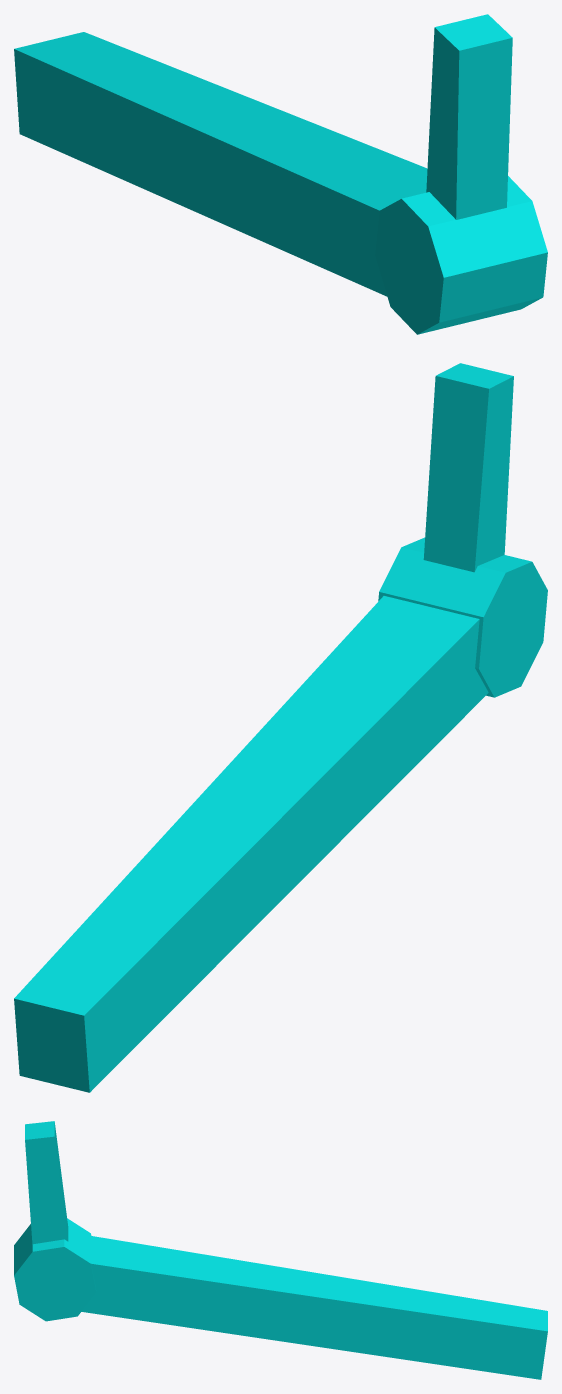
Rendered from Boat_Rudder_Handle_Collision.fbx.
3 views of the same model, one above another, from view 1: azimuth 30°, elevation 25°; view 2: azimuth 150°, elevation 25°; view 3: azimuth 270°, elevation 25° (orthographic). The views are drawn at different scales.
Visible parts, largest first — view 1: Boat_Rudder_Handle_Collision; view 2: Boat_Rudder_Handle_Collision; view 3: Boat_Rudder_Handle_Collision.
Part boxes in pixels (x1,y1,x2,y2): Boat_Rudder_Handle_Collision: (14, 14, 547, 334); Boat_Rudder_Handle_Collision: (14, 363, 547, 1092); Boat_Rudder_Handle_Collision: (14, 1121, 547, 1379).
Bounding box in the file's own units: 14 × 51.67 × 104.
